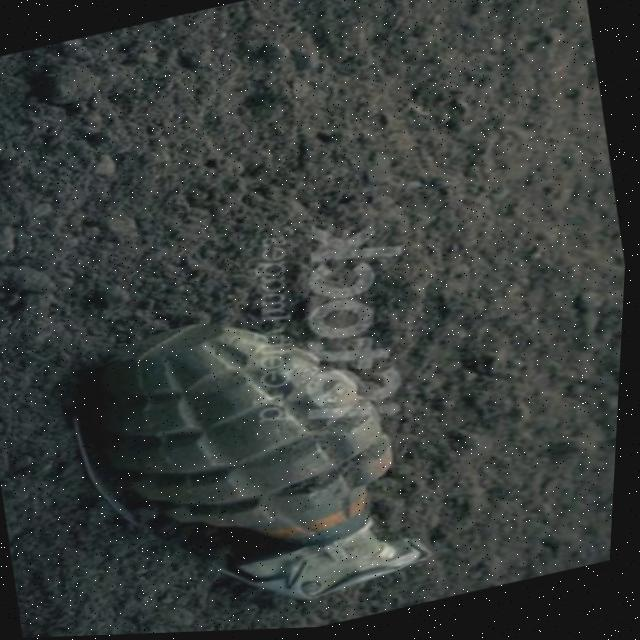grenade: (3, 240, 498, 639)
